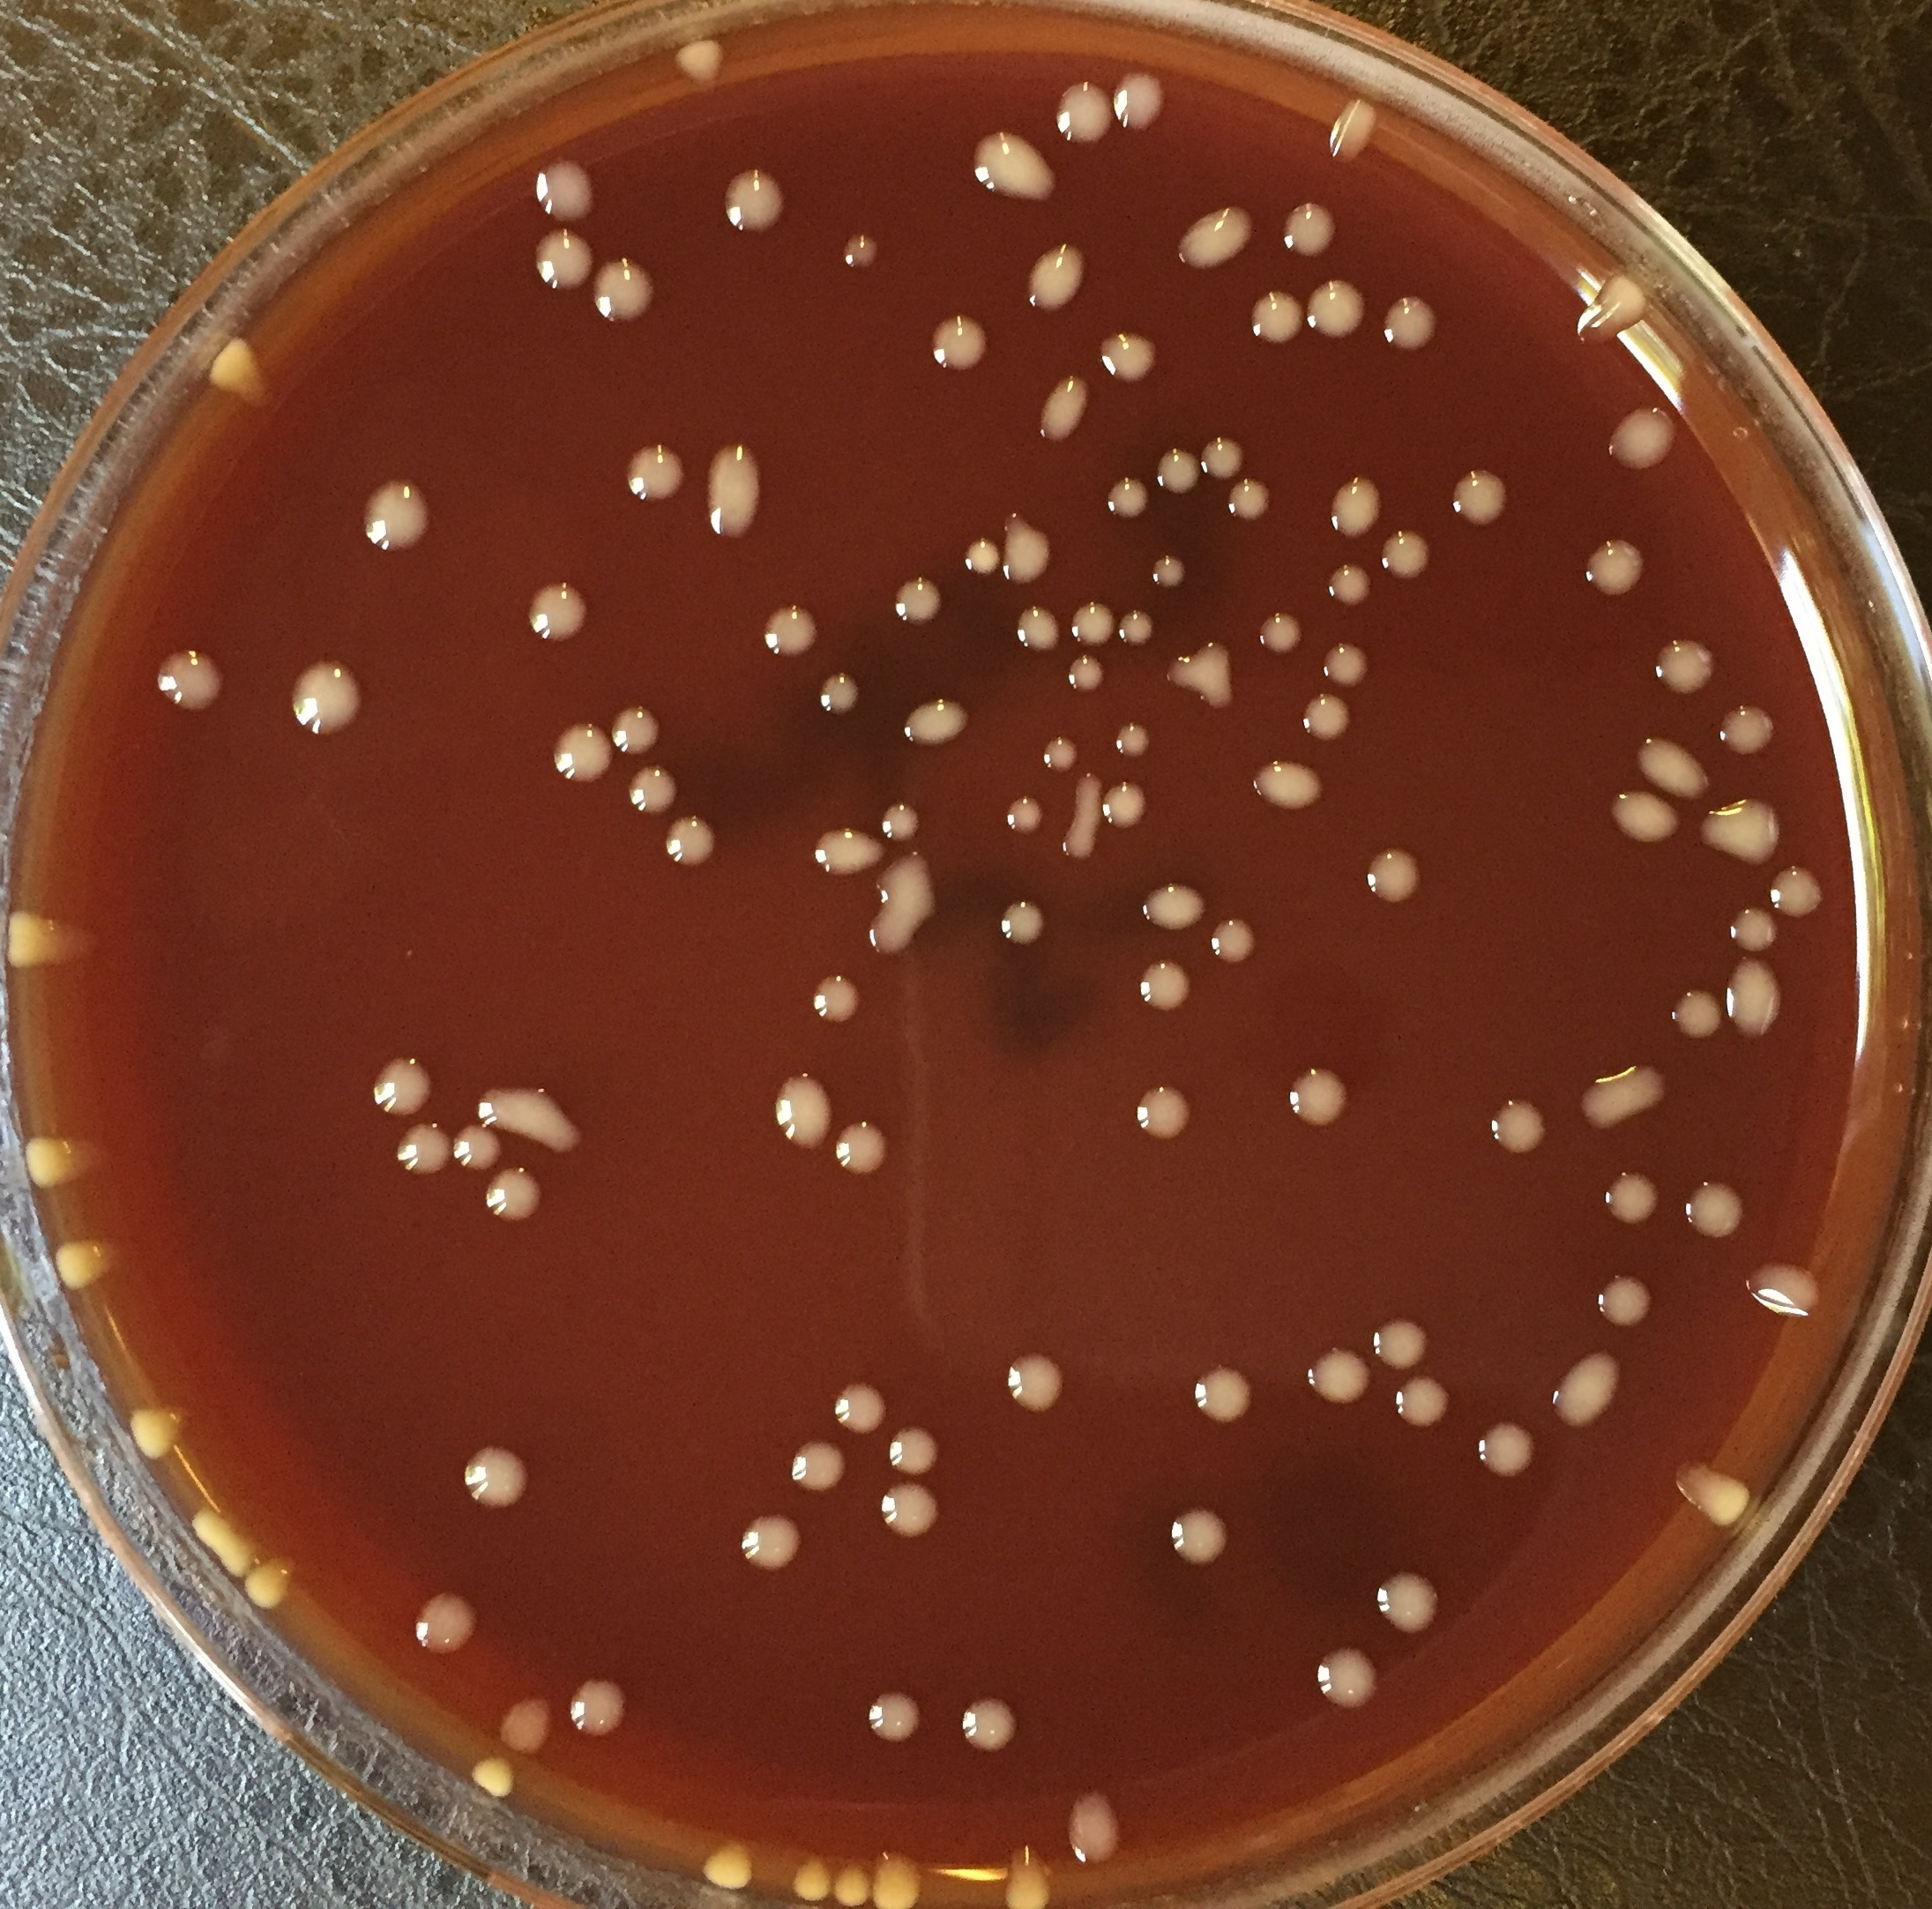sp19: (469, 1079, 586, 1159), (864, 850, 951, 951), (967, 124, 1068, 208), (1572, 267, 1659, 355), (1663, 1456, 1757, 1535), (21, 1122, 117, 1199), (353, 470, 439, 556), (1575, 1059, 1671, 1133), (1698, 797, 1789, 874), (455, 1435, 537, 1519), (1630, 729, 1717, 808), (201, 337, 288, 416), (184, 1498, 264, 1582), (122, 1388, 201, 1474), (1719, 953, 1792, 1044), (699, 441, 764, 544), (281, 659, 365, 738), (1173, 206, 1264, 278), (1544, 1353, 1623, 1433), (150, 643, 234, 718), (1741, 1259, 1829, 1329), (528, 154, 607, 231), (1371, 1565, 1449, 1638), (1605, 781, 1685, 853), (47, 1225, 129, 1295), (1164, 643, 1247, 713), (1058, 1787, 1128, 1867), (621, 439, 694, 514), (991, 505, 1061, 584), (1245, 755, 1329, 820), (409, 1589, 484, 1661), (1161, 1503, 1236, 1575), (1026, 367, 1102, 439), (1000, 1350, 1072, 1421), (587, 255, 659, 327), (733, 1510, 806, 1580), (717, 164, 790, 234), (542, 720, 615, 790), (771, 1070, 832, 1152), (1577, 535, 1649, 605), (1318, 96, 1388, 168), (1605, 404, 1678, 472), (1023, 243, 1089, 318), (1680, 1178, 1750, 1248), (1310, 1647, 1383, 1713), (1282, 1063, 1355, 1129), (808, 823, 888, 883), (565, 1675, 633, 1745), (927, 309, 995, 379), (1107, 68, 1178, 135), (1054, 72, 1115, 149), (1362, 843, 1430, 911), (533, 224, 598, 295), (1060, 769, 1107, 867), (1303, 1348, 1378, 1409), (530, 573, 589, 650), (1187, 1364, 1257, 1428), (872, 1418, 944, 1481), (689, 1836, 764, 1895), (1390, 1372, 1455, 1440), (1652, 631, 1717, 699), (481, 1163, 551, 1225), (1093, 327, 1164, 388), (1755, 860, 1829, 920), (895, 692, 972, 748), (876, 1477, 942, 1542), (757, 600, 822, 666), (497, 1687, 558, 1757), (1128, 1079, 1198, 1140), (657, 811, 724, 874), (365, 1056, 434, 1117), (1366, 1315, 1434, 1376), (1324, 472, 1385, 540), (955, 1694, 1025, 1753), (1493, 1089, 1551, 1161), (782, 1437, 846, 1500), (991, 1846, 1056, 1909), (1664, 982, 1727, 1047), (1304, 278, 1369, 341), (1446, 465, 1509, 530), (1136, 879, 1208, 935), (1712, 701, 1780, 759), (1591, 1273, 1656, 1332), (1133, 956, 1198, 1016), (869, 1851, 935, 1909), (1477, 1416, 1539, 1477), (991, 895, 1053, 956), (605, 701, 666, 762), (393, 1121, 453, 1184), (243, 1549, 301, 1614), (1297, 691, 1362, 748), (1247, 287, 1304, 351), (860, 1687, 925, 1743), (830, 1381, 890, 1440), (1602, 1168, 1659, 1229), (1383, 290, 1441, 351), (670, 37, 736, 89), (1376, 526, 1435, 584), (1283, 198, 1341, 257), (463, 1750, 526, 1804), (836, 1119, 893, 1177), (446, 1122, 505, 1175), (1098, 778, 1149, 839), (1012, 601, 1067, 657), (1252, 605, 1308, 659), (1194, 434, 1250, 488), (1210, 914, 1268, 967), (892, 575, 944, 633), (811, 972, 865, 1026), (1222, 472, 1278, 524), (813, 668, 865, 722), (1727, 902, 1782, 953), (626, 762, 677, 816), (1152, 446, 1206, 496), (1324, 561, 1376, 612), (1067, 596, 1114, 652), (1318, 640, 1373, 687), (878, 795, 934, 841), (783, 1855, 834, 1904), (1110, 608, 1157, 659), (1102, 476, 1150, 523), (1035, 731, 1086, 776), (998, 794, 1047, 839), (825, 1860, 872, 1906), (1063, 652, 1110, 696), (836, 229, 879, 276), (1147, 551, 1191, 593), (962, 535, 1002, 580), (1112, 720, 1156, 759)
